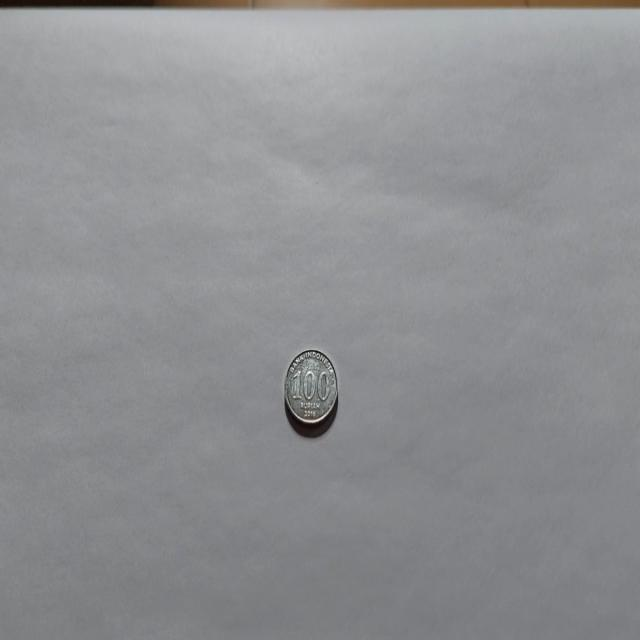seratus rupiah: (283, 346, 338, 434)
